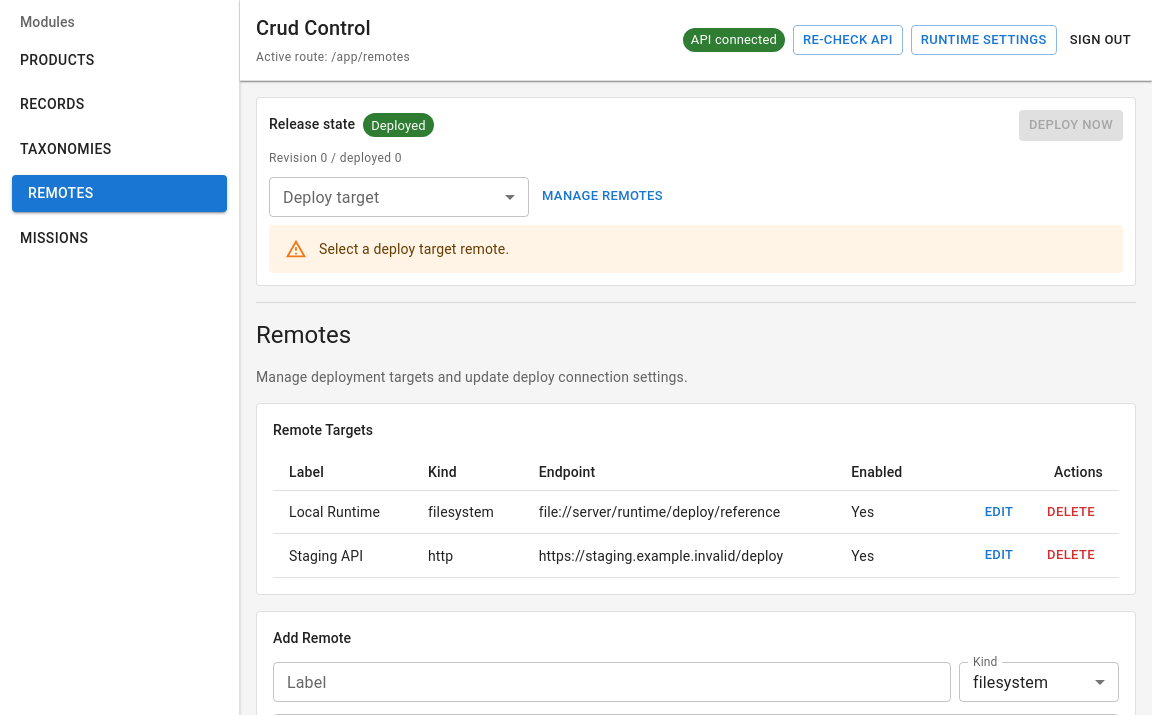
it: Module lifecycle runtime controls › remotes module executes disable/uninstall/install/enable lifecycle flow
Expected: the heading "Remotes" is shown, [256,321,351,349]
Click the button "Runtime settings". click: (984, 40)
box: [911,25,1057,55]
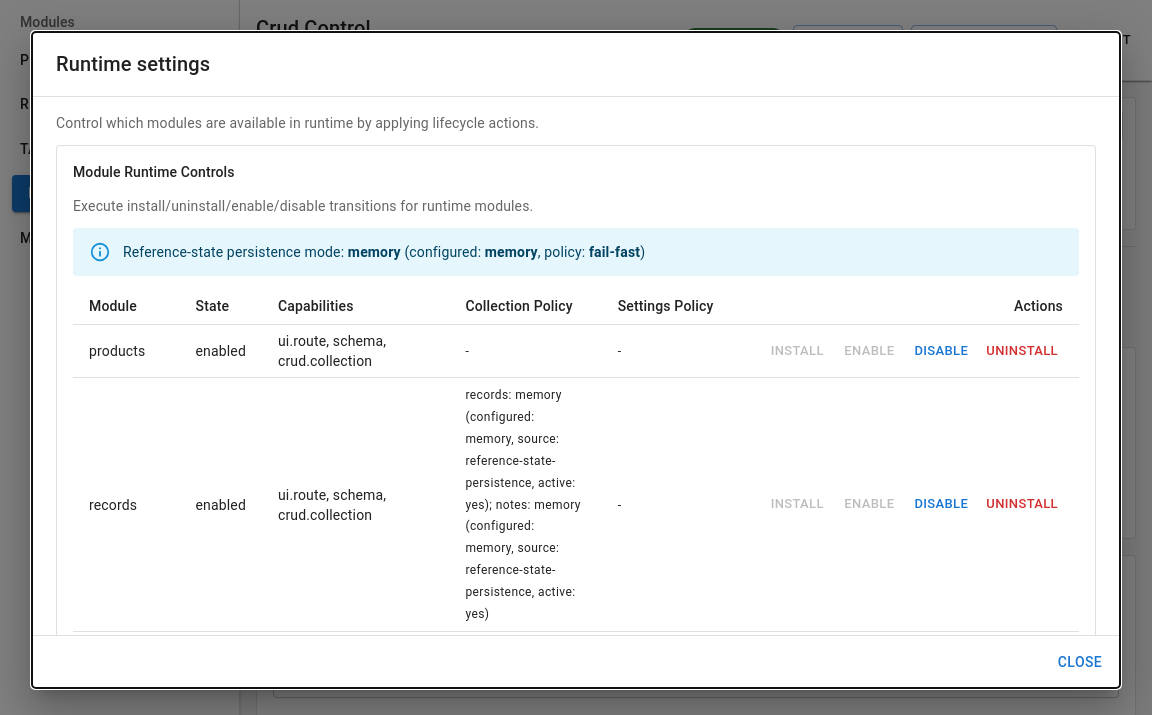
Expected: the heading "Module Runtime Controls" is shown, [73,164,235,180]
Expected: the text "products" is shown, [73,324,180,378]
Expected: the row that starts with "records" is shown, [73,378,1079,632]
Click the 1st button "Disable". click: (941, 351)
box: [909,336,973,366]
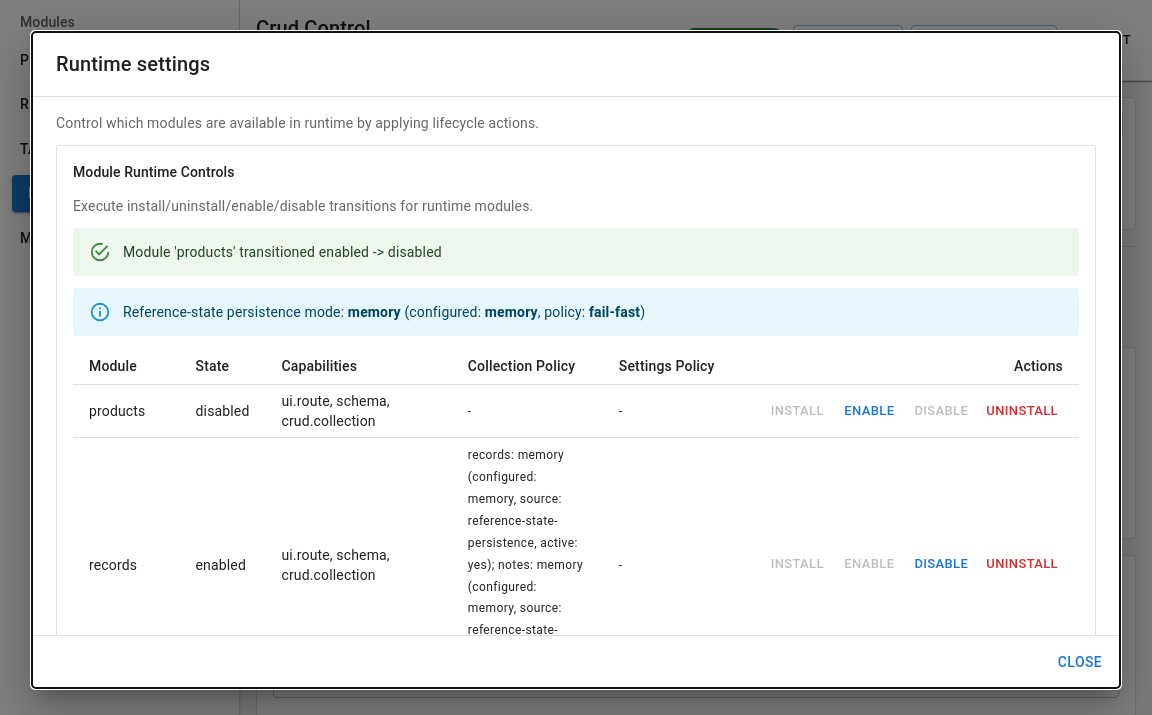
Expected: the text "Module 'products' transitioned enabled -> disabled" is shown, [123,244,442,260]
Expected: the text "disabled" is shown, [180,384,265,438]
Click the 1st button "Uninstall". click: (1022, 411)
box: [981,396,1063,426]
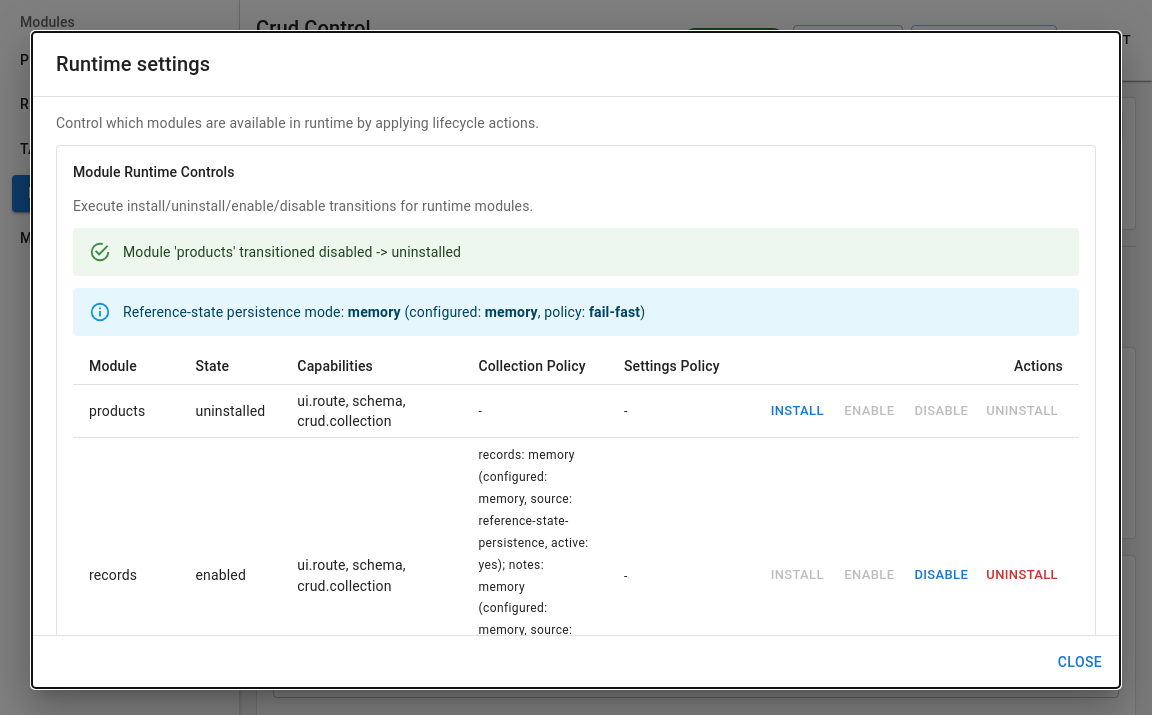
Expected: the text "Module 'products' transitioned disabled -> uninstalled" is shown, [123,244,461,260]
Expected: the text "uninstalled" is shown, [180,384,281,438]
Expected: the 1st button "Enable" is disabled, [837,396,901,426]
Click the 1st button "Install". click: (797, 411)
box: [765,396,829,426]
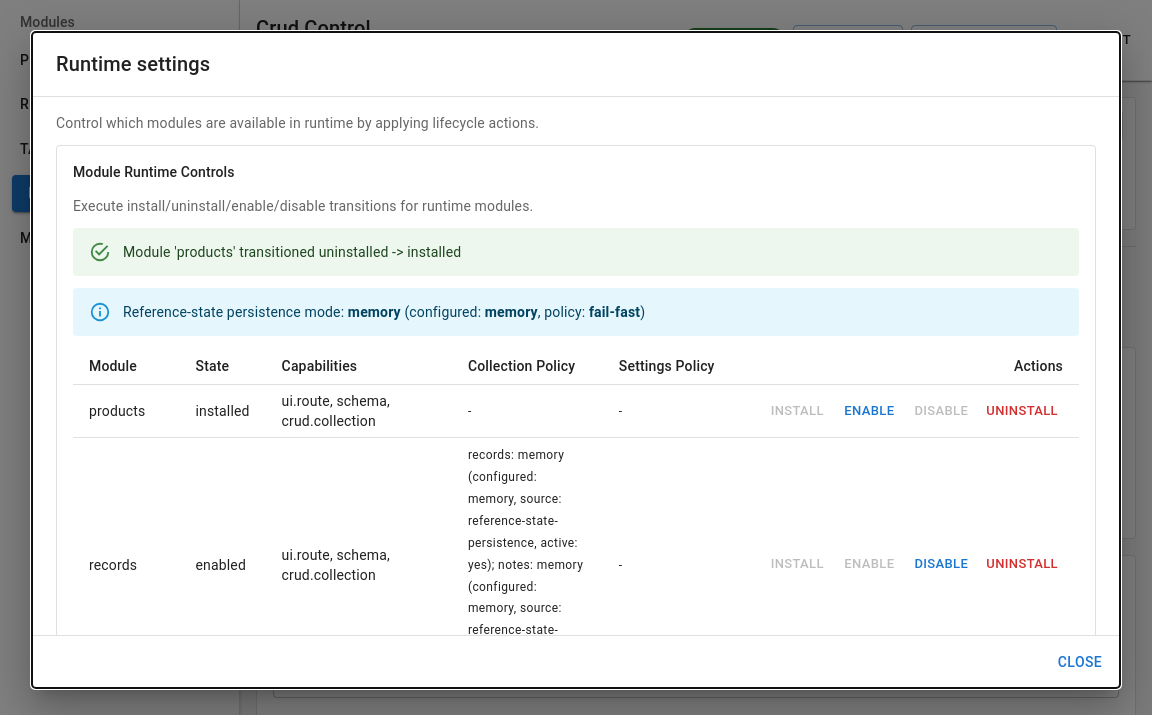
Expected: the text "installed" is shown, [180,384,266,438]
Expected: the text "Module 'products' transitioned uninstalled -> installed" is shown, [123,244,461,260]
Click the 1st button "Enable". click: (869, 411)
box: [837,396,901,426]
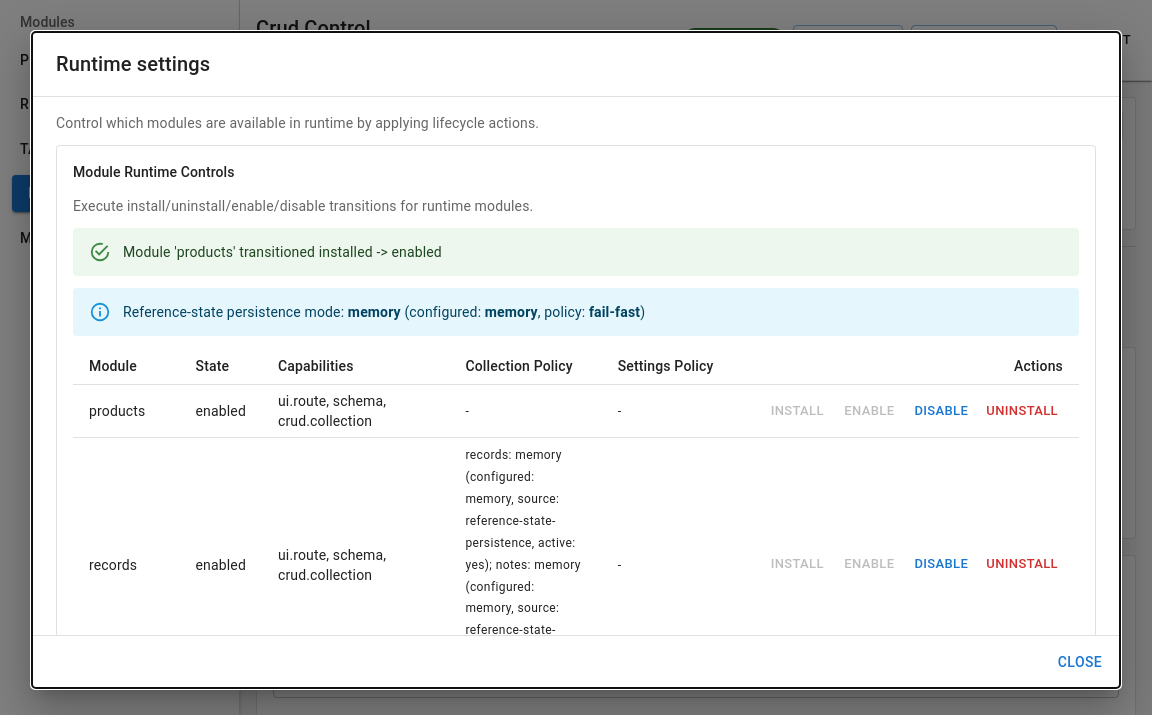
Expected: the text "Module 'products' transitioned installed -> enabled" is shown, [123,244,442,260]
Expected: the 1st text "enabled" is shown, [180,384,262,438]
